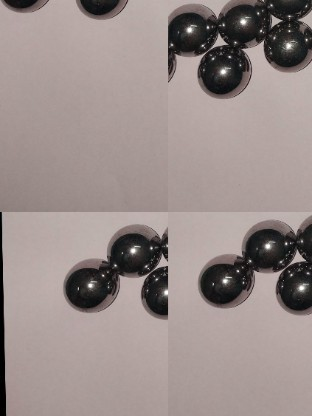ironball: (57, 257, 119, 313), (190, 253, 255, 306), (236, 218, 296, 271), (195, 46, 259, 95), (103, 220, 160, 273), (217, 0, 269, 51), (163, 1, 217, 49), (261, 21, 309, 73), (277, 259, 310, 317), (144, 269, 170, 319), (71, 0, 132, 20), (265, 0, 310, 23), (296, 213, 310, 266), (0, 0, 50, 8)
